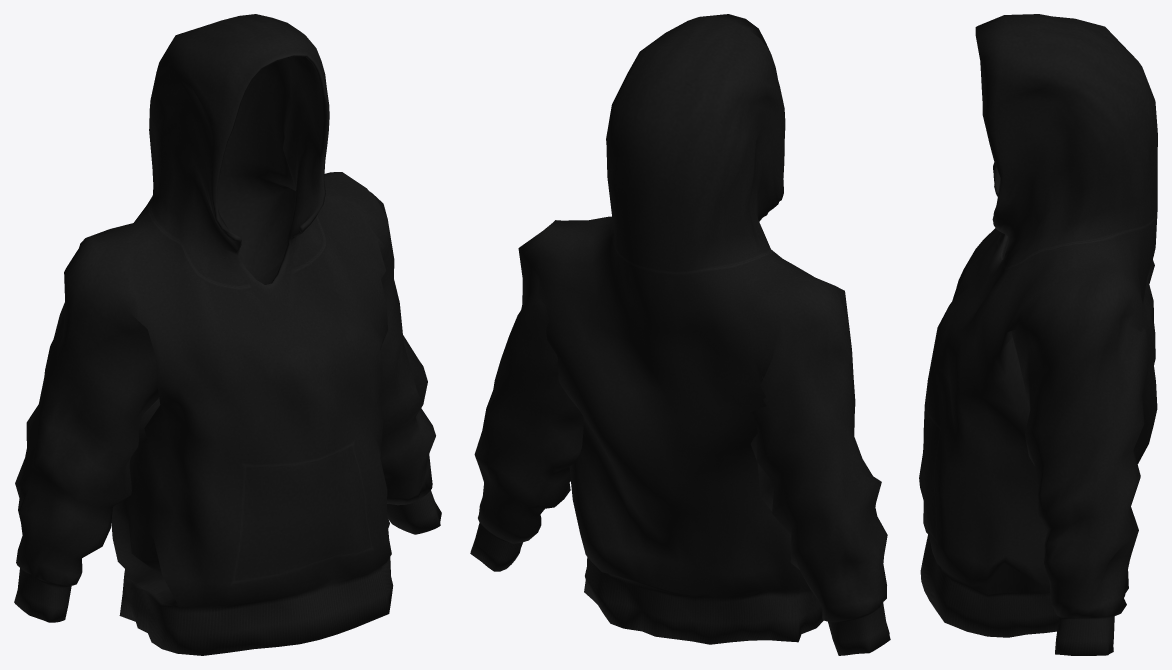
The model's file is hoodie-014.glb.
3 views of the same model, side by side, from view 1: azimuth 30°, elevation 25°; view 2: azimuth 150°, elevation 25°; view 3: azimuth 270°, elevation 25° (orthographic). The views are drawn at different scales.
Visible parts, largest first — view 1: hudiLP; view 2: hudiLP; view 3: hudiLP.
Boxes of the visible parts, bbox=[...] form: hudiLP: bbox=[14, 14, 441, 655]; hudiLP: bbox=[470, 14, 890, 655]; hudiLP: bbox=[919, 14, 1157, 655].
Size of the model in its own units: 9.33 by 12.59 by 4.82.
1 material, 1 textured.
